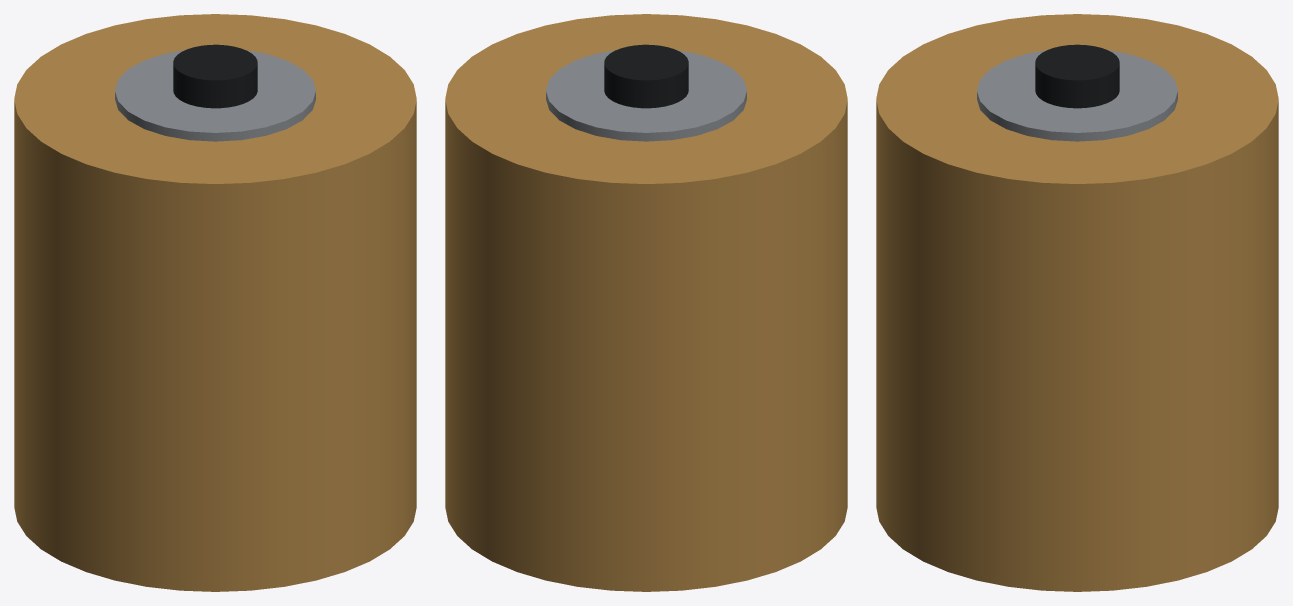
The model's file is support_wheel_left.obj.
The picture shows the model from 3 angles, left to right: view 1: azimuth 30°, elevation 25°; view 2: azimuth 150°, elevation 25°; view 3: azimuth 270°, elevation 25°; orthographic projection.
Visible parts, largest first — view 1: support_wheel_left_tyre, support_wheel_left_hub, support_wheel_left_axle_1; view 2: support_wheel_left_tyre, support_wheel_left_hub, support_wheel_left_axle_1; view 3: support_wheel_left_tyre, support_wheel_left_hub, support_wheel_left_axle_1.
Part boxes in pixels (<box>): support_wheel_left_tyre: <box>14,14,416,591</box>; support_wheel_left_hub: <box>115,50,315,141</box>; support_wheel_left_axle_1: <box>173,44,257,108</box>; support_wheel_left_tyre: <box>445,14,847,591</box>; support_wheel_left_hub: <box>546,50,746,141</box>; support_wheel_left_axle_1: <box>604,44,688,108</box>; support_wheel_left_tyre: <box>876,14,1278,591</box>; support_wheel_left_hub: <box>977,50,1177,141</box>; support_wheel_left_axle_1: <box>1035,44,1119,108</box>.
Size of the model in its own units: 0.085 by 0.112 by 0.085.
